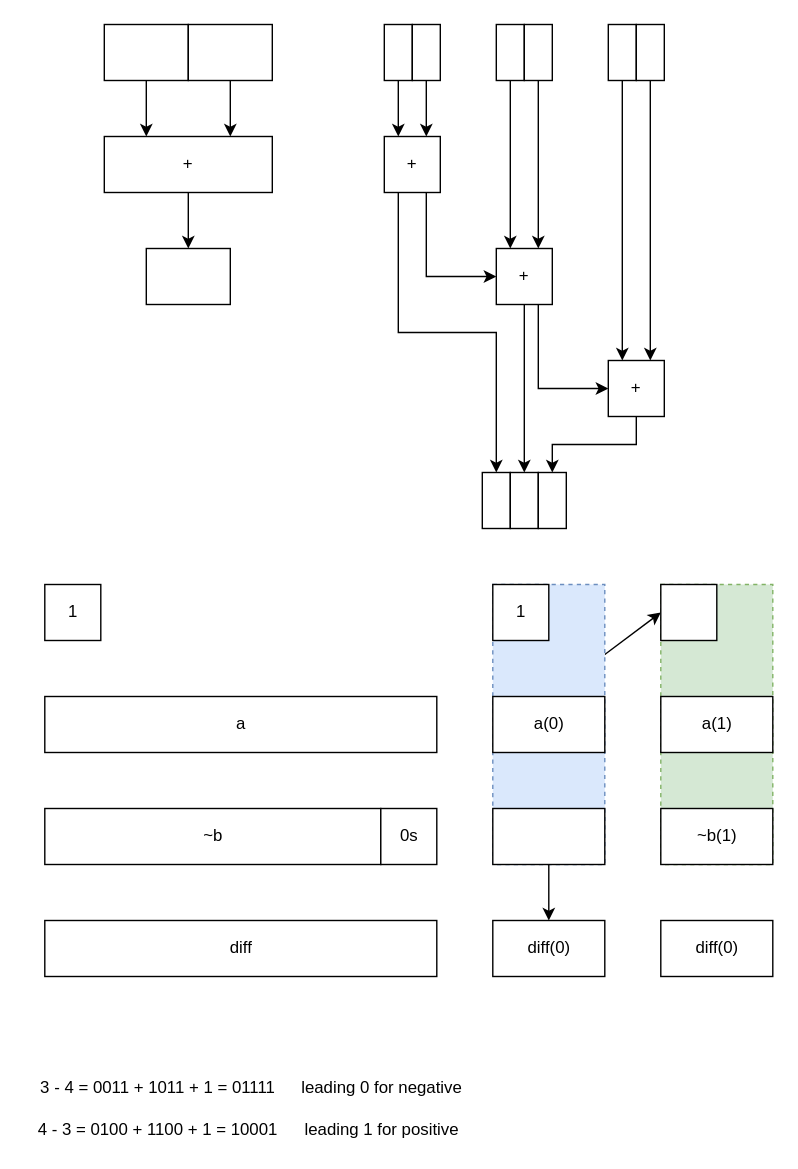
Some shapes in this 798 by 1169 pixel diagram are drawn without their labels. Each missing label, with the box of its shape:
carry: (659, 583, 717, 640)
~b(0): (491, 807, 605, 864)
